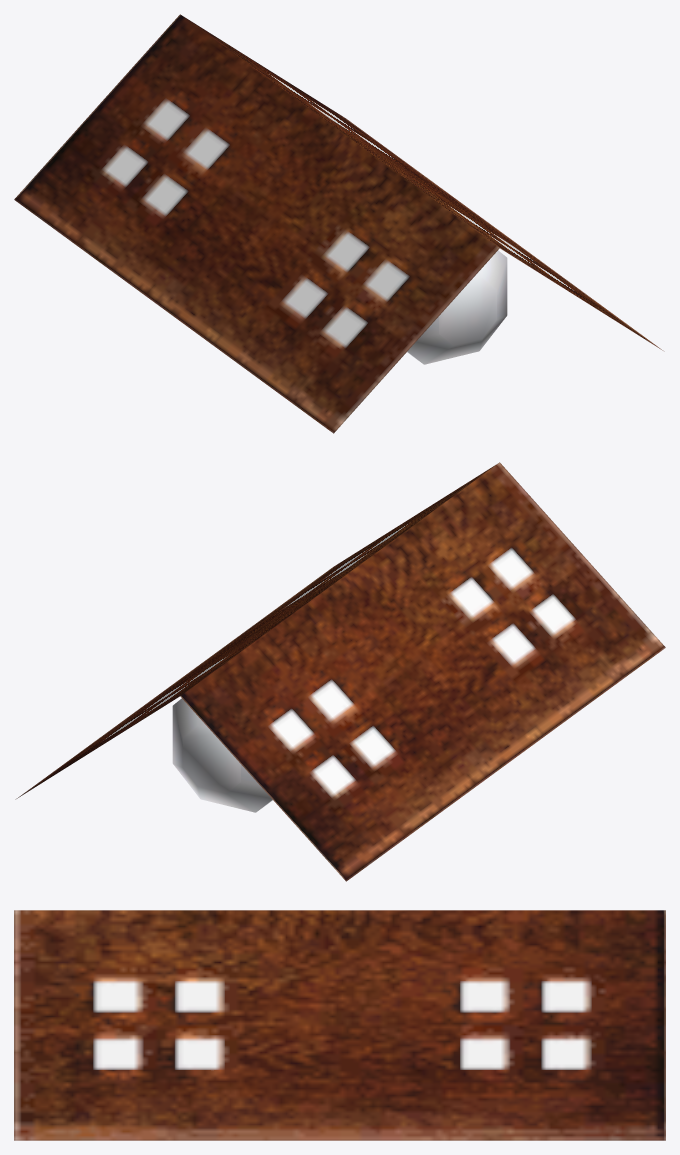
The model's file is wall_sconce_var6.fbx.
The picture shows the model from 3 angles, top to bottom: view 1: azimuth 30°, elevation 25°; view 2: azimuth 150°, elevation 25°; view 3: azimuth 270°, elevation 25°; orthographic projection.
Visible parts, largest first — view 1: mesh_1, mesh_0; view 2: mesh_1, mesh_0; view 3: mesh_1.
Part boxes in pixels (<box>): mesh_1: <box>14,14,664,433</box>; mesh_0: <box>407,250,507,364</box>; mesh_1: <box>15,462,665,881</box>; mesh_0: <box>172,698,272,812</box>; mesh_1: <box>14,910,665,1140</box>.
Bounding box in the file's own units: 26.96 × 11.23 × 44.93.
Materials: 2 (2 with a texture image).
